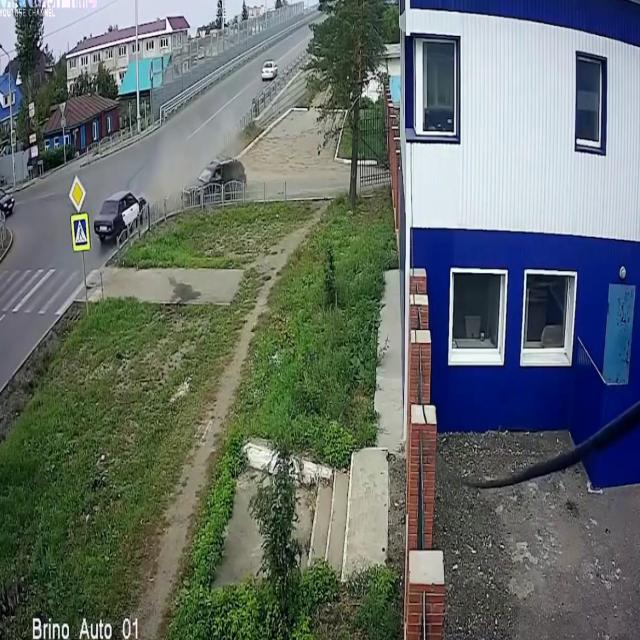accident: (91, 146, 249, 258)
